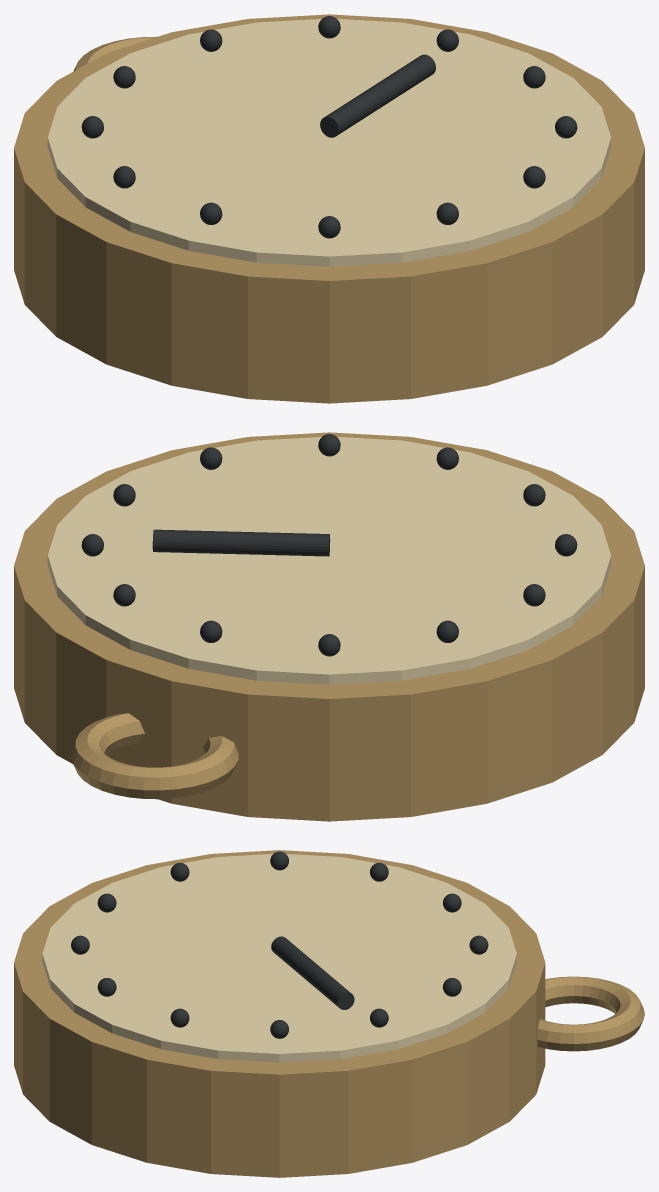
File: jam.glb
The picture shows the model from 3 angles, top to bottom: view 1: azimuth 30°, elevation 25°; view 2: azimuth 150°, elevation 25°; view 3: azimuth 270°, elevation 25°; orthographic projection. The views are drawn at different scales.
Visible parts, largest first — view 1: Dial, Arloji, Jarum, Gelang; view 2: Dial, Arloji, Gelang, Jarum; view 3: Dial, Arloji, Gelang, Jarum.
Boxes of the visible parts, <box> form: Dial: <box>47,19,611,266</box>; Arloji: <box>14,14,644,403</box>; Jarum: <box>320,54,435,137</box>; Gelang: <box>73,36,157,71</box>; Dial: <box>47,437,611,684</box>; Arloji: <box>14,432,644,821</box>; Gelang: <box>70,713,238,799</box>; Jarum: <box>152,529,330,556</box>; Dial: <box>42,854,516,1062</box>; Arloji: <box>14,850,545,1177</box>; Gelang: <box>537,976,644,1051</box>; Jarum: <box>271,936,354,1009</box>.
Bounding box in the file's own units: 0.056 × 0.015 × 0.0665.
